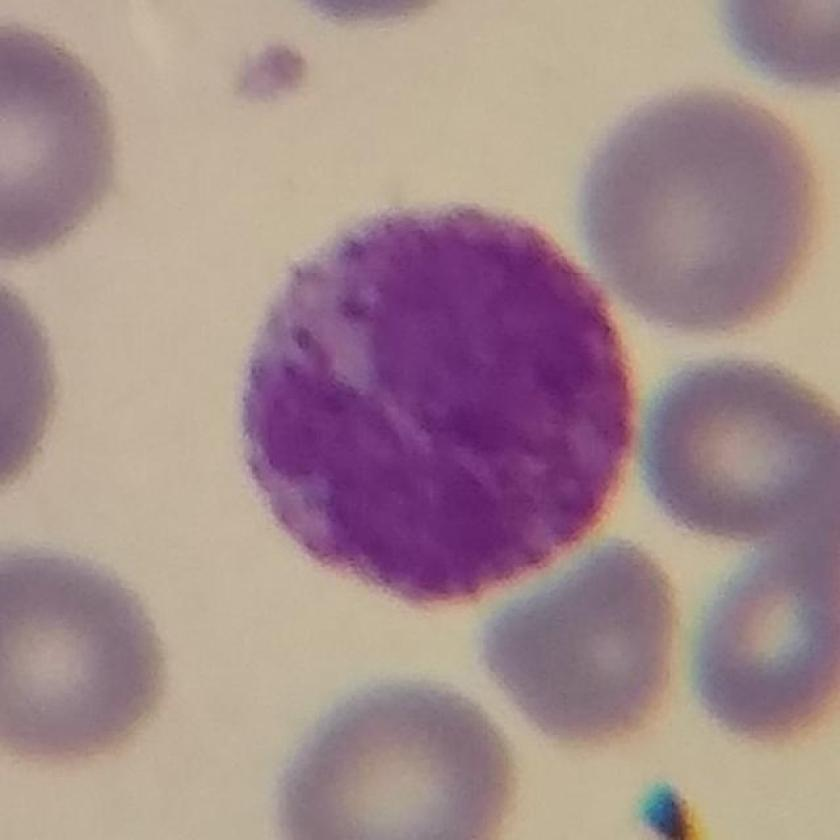basophil: (239, 193, 650, 609)
